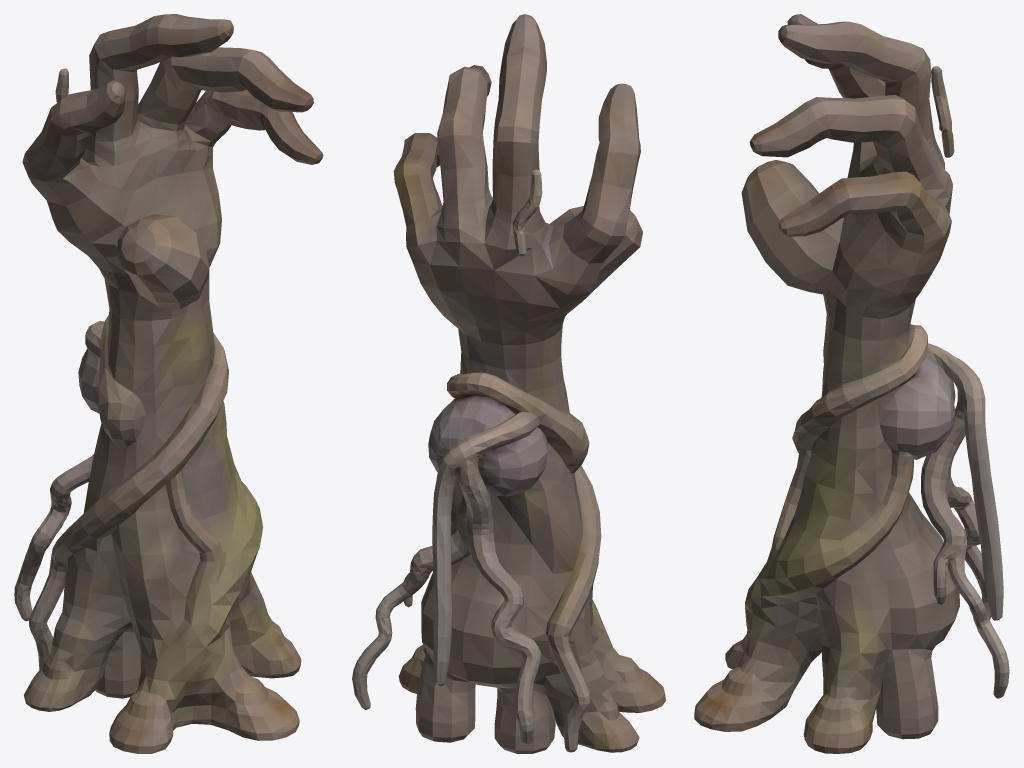
The picture shows the model from 3 angles, left to right: view 1: azimuth 30°, elevation 25°; view 2: azimuth 150°, elevation 25°; view 3: azimuth 270°, elevation 25°; orthographic projection. The views are drawn at different scales.
Visible parts, largest first — view 1: geometry_0; view 2: geometry_0; view 3: geometry_0.
Part boxes in pixels (x1,y1,x2,y2): geometry_0: (14, 14, 323, 753); geometry_0: (352, 14, 665, 753); geometry_0: (694, 14, 1009, 753).
Size of the model in its own units: 0.1235 by 0.3242 by 0.1338.
